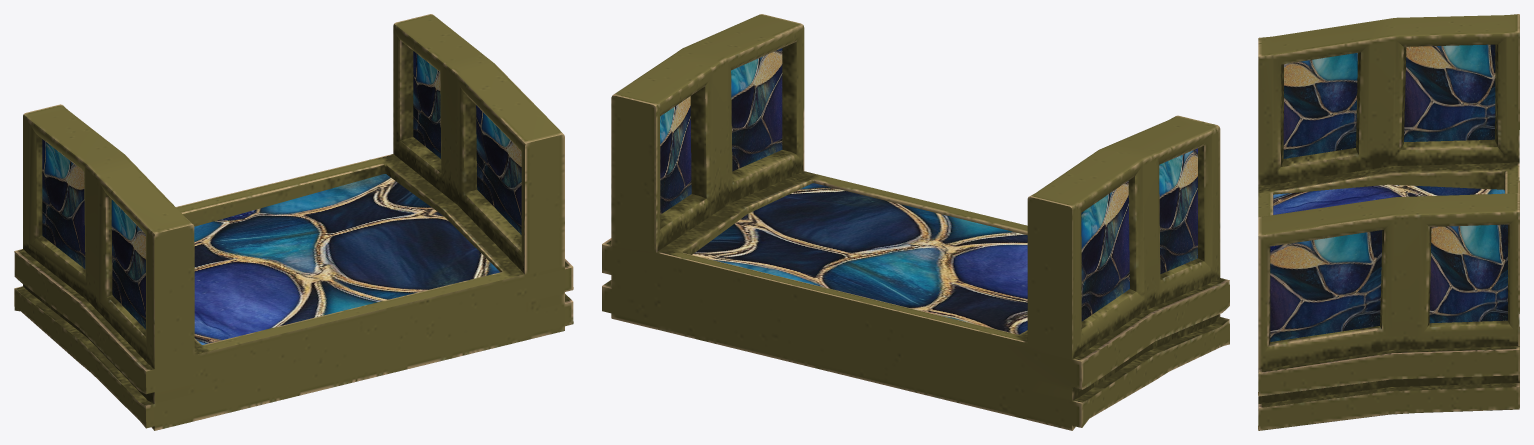
The model's file is bridgeBorkenPiecePre.glb.
3 views of the same model, side by side, from view 1: azimuth 30°, elevation 25°; view 2: azimuth 150°, elevation 25°; view 3: azimuth 270°, elevation 25° (orthographic). The views are drawn at different scales.
Visible parts, largest first — view 1: Mesh_566, Mesh_45.002, Mesh_19.001, Mesh_643, Mesh_131, Mesh_330; view 2: Mesh_566, Mesh_45.002, Mesh_19.001, Mesh_643, Mesh_131, Mesh_330; view 3: Mesh_566, Mesh_643, Mesh_19.001, Mesh_330, Mesh_131, Mesh_45.002.
Boxes of the visible parts, <box> form: Mesh_566: <box>14,14,573,430</box>; Mesh_45.002: <box>194,174,499,344</box>; Mesh_19.001: <box>42,139,85,268</box>; Mesh_643: <box>476,105,521,234</box>; Mesh_131: <box>111,199,145,329</box>; Mesh_330: <box>413,51,440,158</box>; Mesh_566: <box>602,14,1229,430</box>; Mesh_45.002: <box>692,183,1027,334</box>; Mesh_19.001: <box>1081,181,1129,321</box>; Mesh_643: <box>731,48,782,171</box>; Mesh_131: <box>1159,148,1197,273</box>; Mesh_330: <box>660,96,691,214</box>; Mesh_566: <box>1258,14,1519,430</box>; Mesh_643: <box>1270,230,1382,341</box>; Mesh_19.001: <box>1404,44,1495,141</box>; Mesh_330: <box>1429,224,1507,323</box>; Mesh_131: <box>1283,53,1357,158</box>; Mesh_45.002: <box>1273,184,1504,214</box>.
Size of the model in its own units: 1.03 by 0.5074 by 0.5483.
3 materials, 3 textured.
